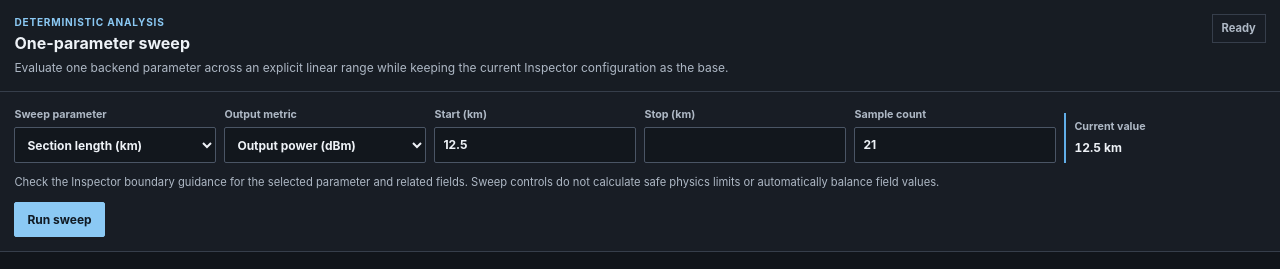
Scenario: SweepWorkspace › uses the structured API message for a rejected request
Step 1. Type "20" into the number field labelled "Stop (km)" → (745, 145), box [644,127,846,163]
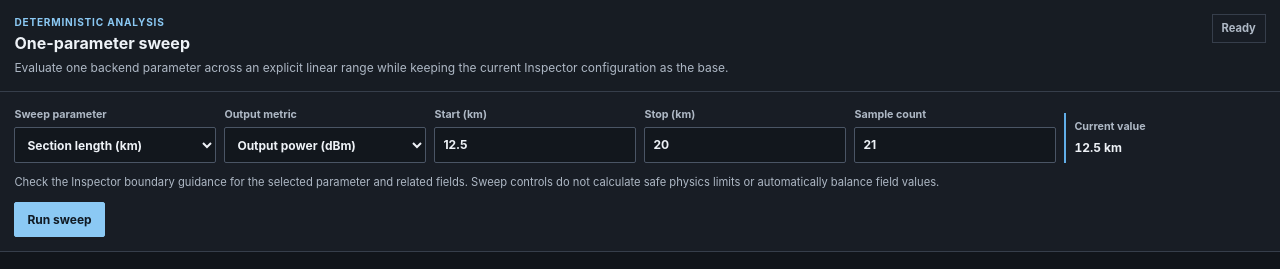
Step 2. Replace the text in the number field labelled "Sample count" with "3" → (955, 145), box [854,127,1056,163]
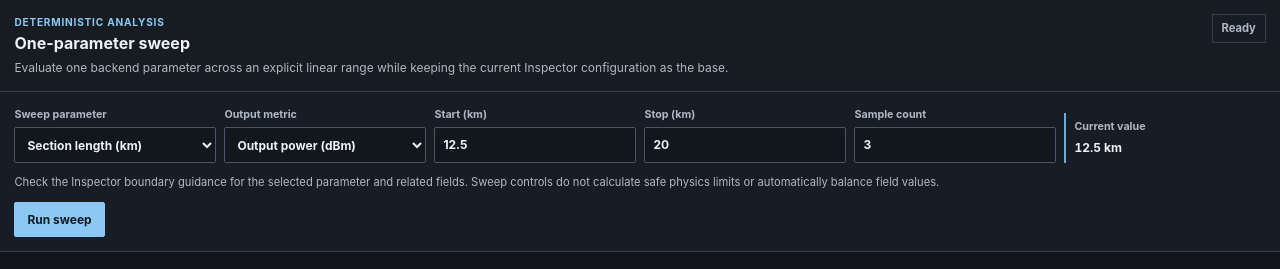
Step 3. Click the button "Run sweep" → (60, 220), box [14,202,105,237]
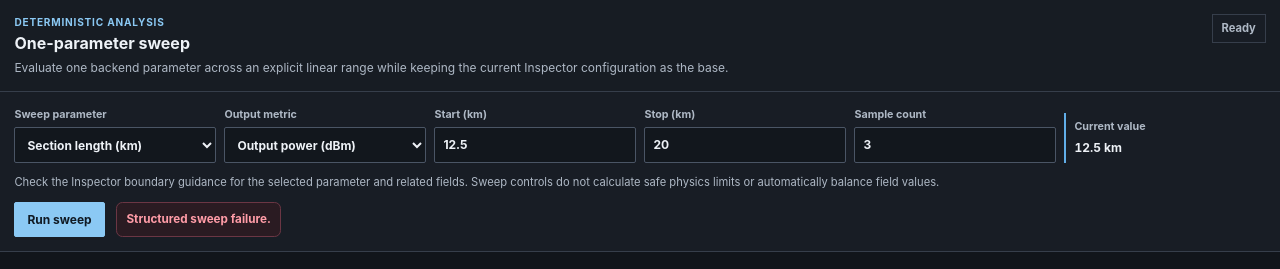
Now the message "Structured sweep failure." is shown, box [116,202,281,237]
